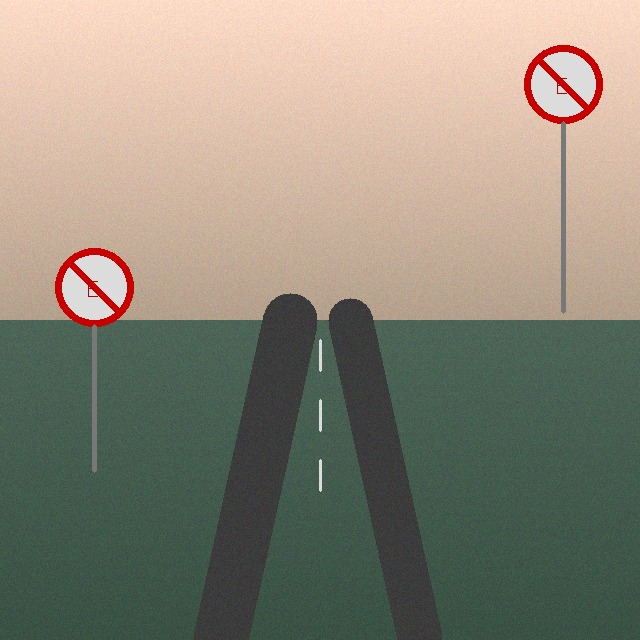no_estacionar: (56, 249, 133, 326), (525, 46, 602, 123)
